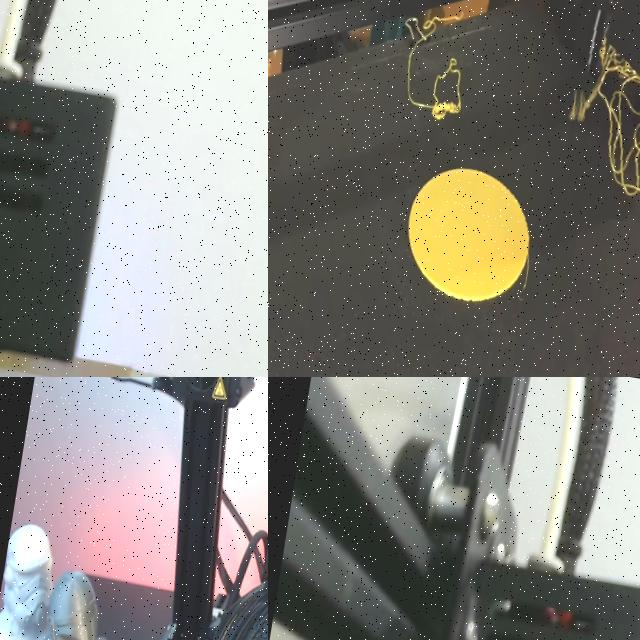spaghetti: (552, 21, 640, 230), (381, 0, 499, 145)
